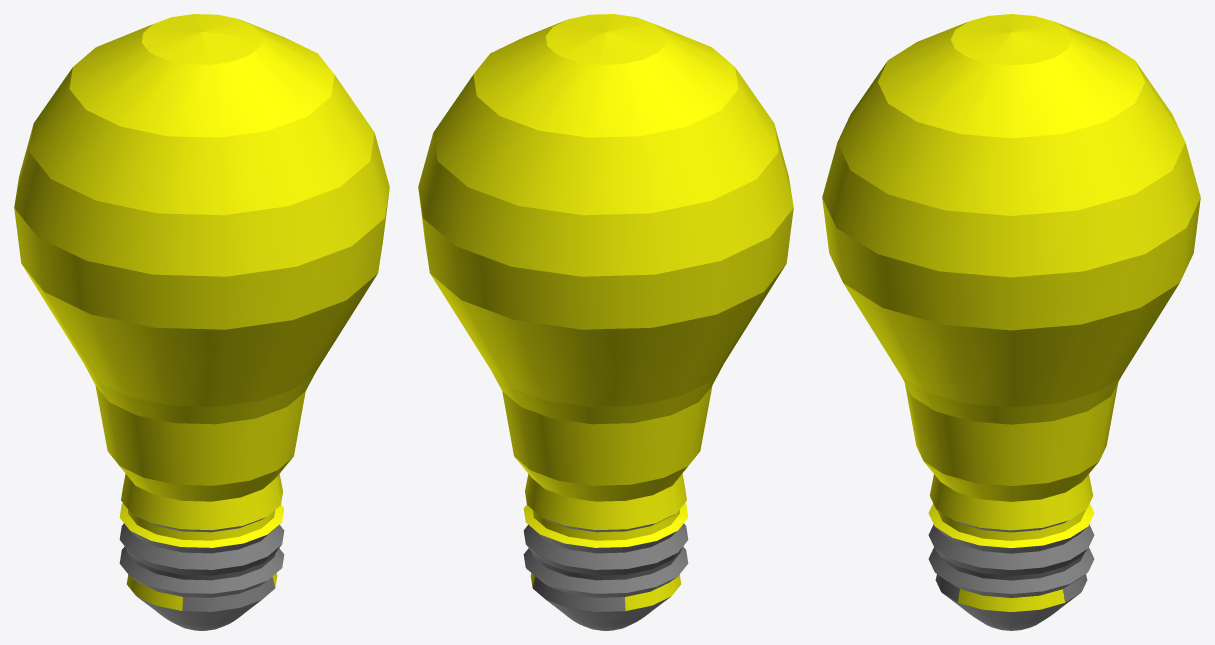
Rendered from Active Bulb.FBX.
3 renders of one model, left to right at view 1: azimuth 30°, elevation 25°; view 2: azimuth 150°, elevation 25°; view 3: azimuth 270°, elevation 25°, orthographic.
Parts seen in each view (by area): view 1: Line001; view 2: Line001; view 3: Line001.
Boxes of the visible parts, x1=… form: Line001: x1=14, y1=14, x2=389, y2=630; Line001: x1=418, y1=14, x2=793, y2=630; Line001: x1=822, y1=14, x2=1200, y2=630.
Size of the model in its own units: 53.35 by 92.43 by 53.35.
1 material, 1 textured.
